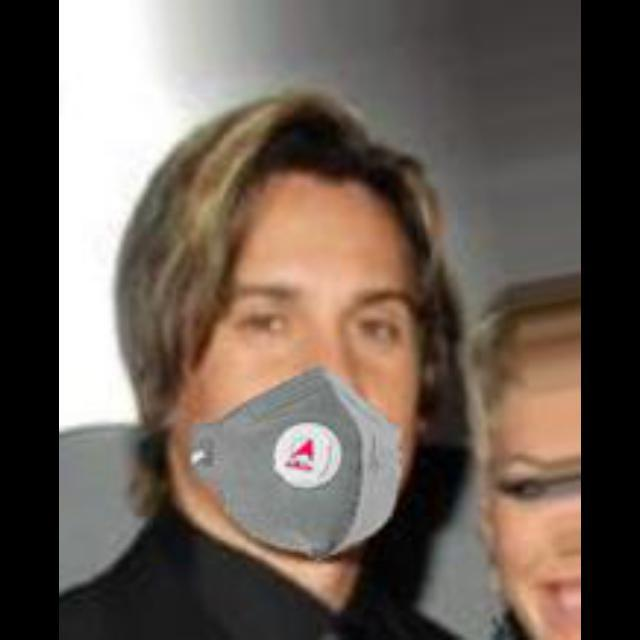suspicion: (175, 120, 448, 560)
